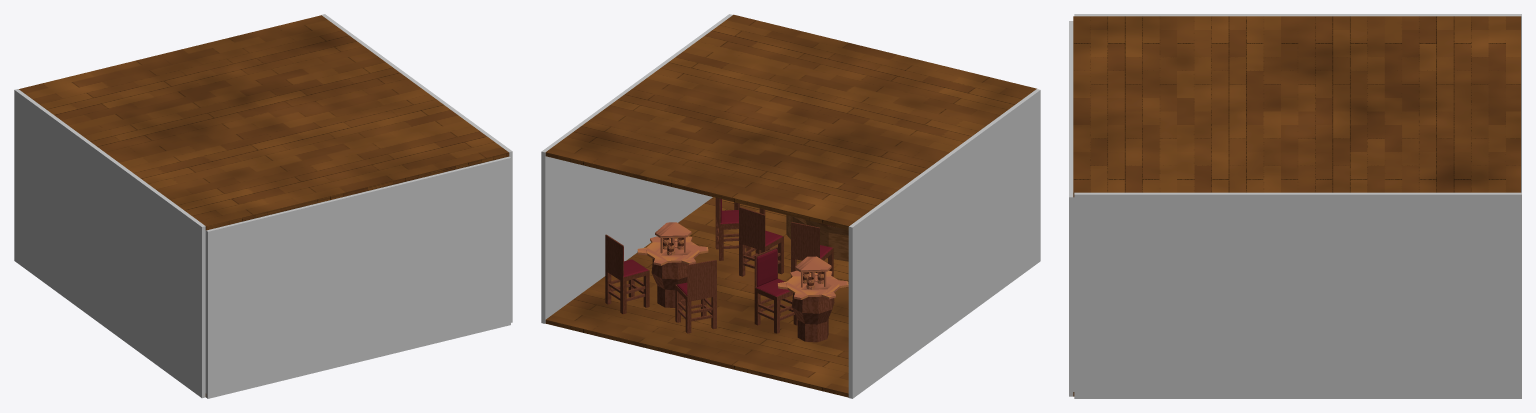
File: SpeakEasy.fbx
The picture shows the model from 3 angles, left to right: view 1: azimuth 30°, elevation 25°; view 2: azimuth 150°, elevation 25°; view 3: azimuth 270°, elevation 25°; orthographic projection. The views are drawn at different scales.
Visible parts, largest first — view 1: Ceiling, SideWall1.012, SideWall1.010, SideWall1.011; view 2: Ceiling, SideWall1.010, Ground.001, SideWall1.011, Chair.035, Chair.033, Chair.034, Chair.028, TableBottom.014, Chair.030, TableBottom.013, Counter.001 (+5 smaller); view 3: SideWall1.011, Ceiling, SideWall1.012, SideWall1.010.
Part boxes in pixels (bbox=[...]): Ceiling: bbox=[19, 15, 509, 230]; SideWall1.012: bbox=[205, 156, 510, 398]; SideWall1.010: bbox=[14, 89, 205, 398]; SideWall1.011: bbox=[321, 14, 512, 322]; Ceiling: bbox=[545, 14, 1036, 229]; SideWall1.010: bbox=[848, 89, 1040, 398]; Ground.001: bbox=[545, 197, 848, 397]; SideWall1.011: bbox=[541, 14, 732, 323]; Chair.035: bbox=[675, 260, 716, 333]; Chair.033: bbox=[605, 234, 649, 313]; Chair.034: bbox=[754, 246, 797, 333]; Chair.028: bbox=[739, 207, 783, 276]; TableBottom.014: bbox=[792, 293, 834, 342]; Chair.030: bbox=[791, 222, 833, 277]; TableBottom.013: bbox=[651, 259, 687, 307]; Counter.001: bbox=[786, 215, 848, 261]; SideWall1.011: bbox=[1074, 192, 1521, 398]; Ceiling: bbox=[1073, 16, 1520, 197]; SideWall1.012: bbox=[1069, 21, 1074, 396]; SideWall1.010: bbox=[1074, 14, 1521, 192].
Size of the model in its own units: 517 by 272 by 547.
